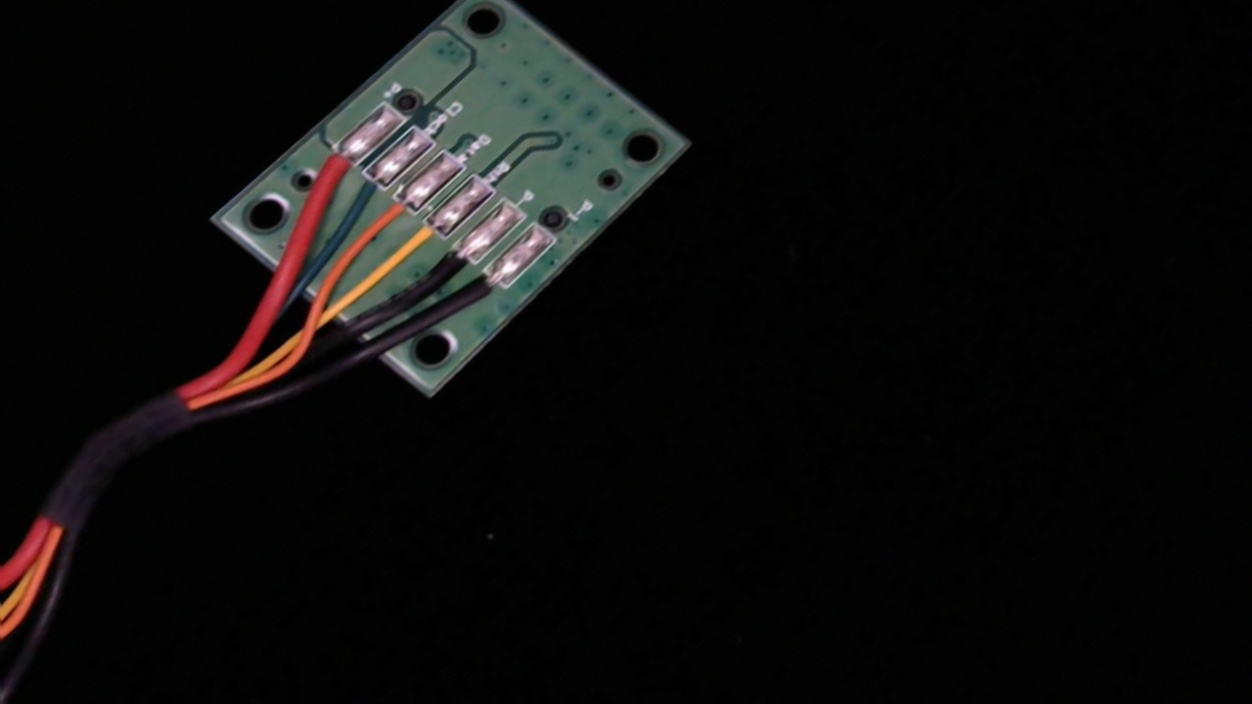Black: (410, 231, 489, 299)
Black1: (444, 258, 520, 324)
Green: (323, 160, 402, 225)
Orange: (350, 182, 431, 250)
Red: (289, 138, 369, 204)
Yellow: (374, 206, 461, 280)
